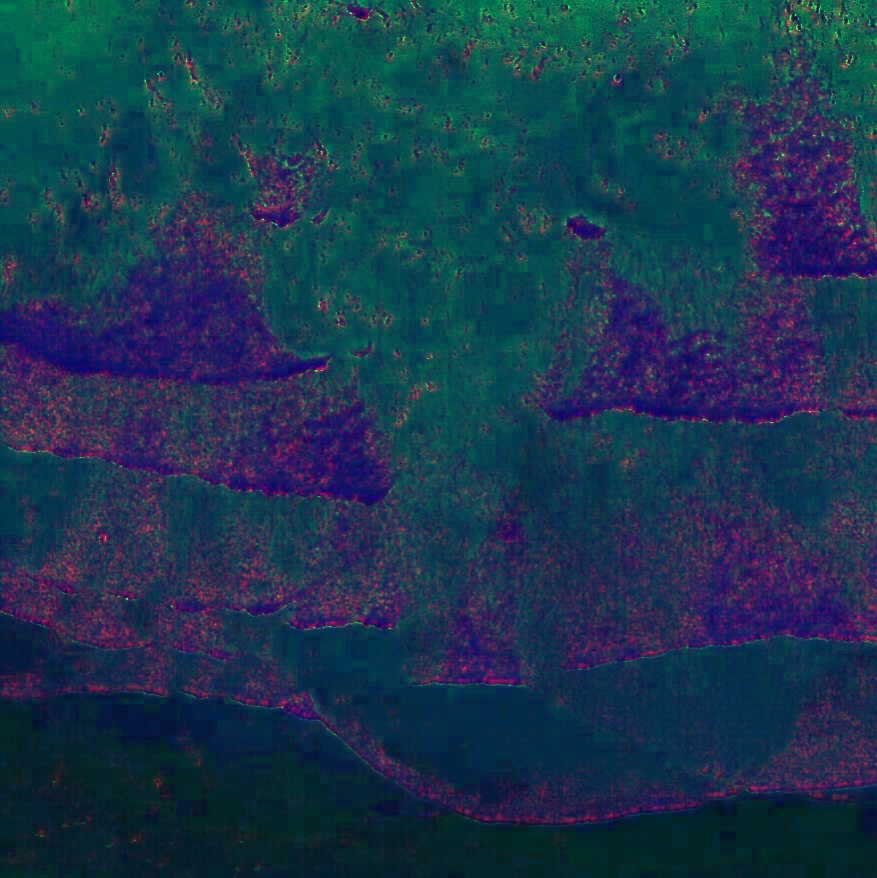rip_current: (246, 179, 624, 706)
